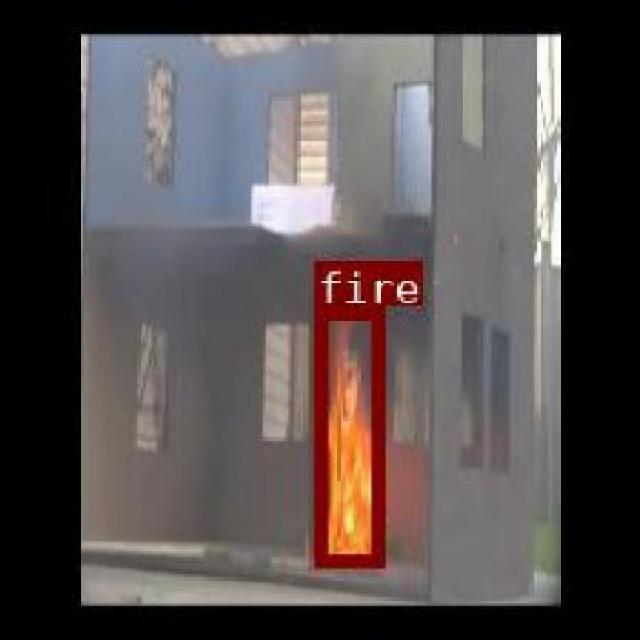Fire: (312, 304, 383, 564)
